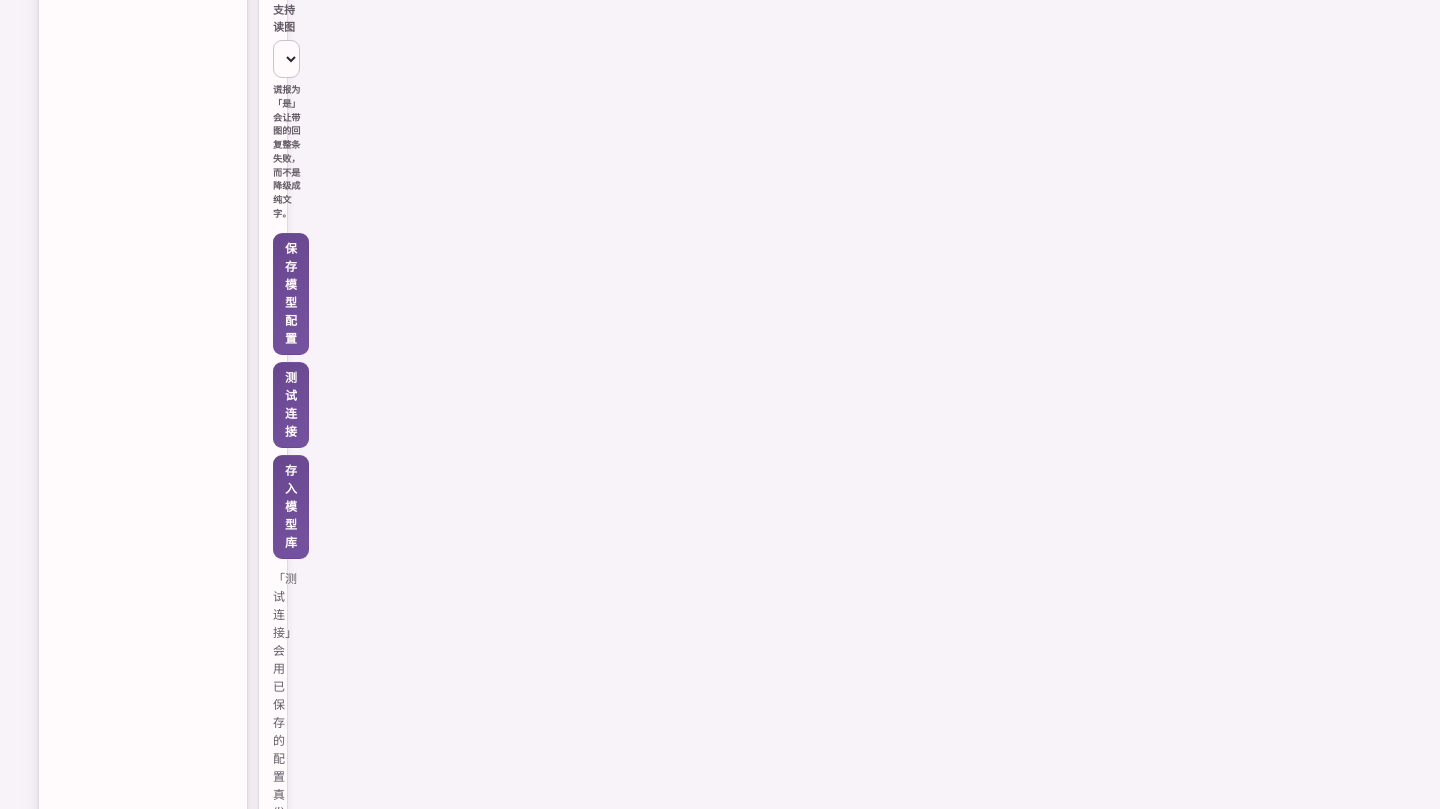
Test: AdminPanel 子页首屏 › 模型测试返回 ok:false 时不会显示连接正常
(page scrolled)
Click the button with test id "admin-model-test". click: (291, 405)
box: [273, 362, 309, 448]
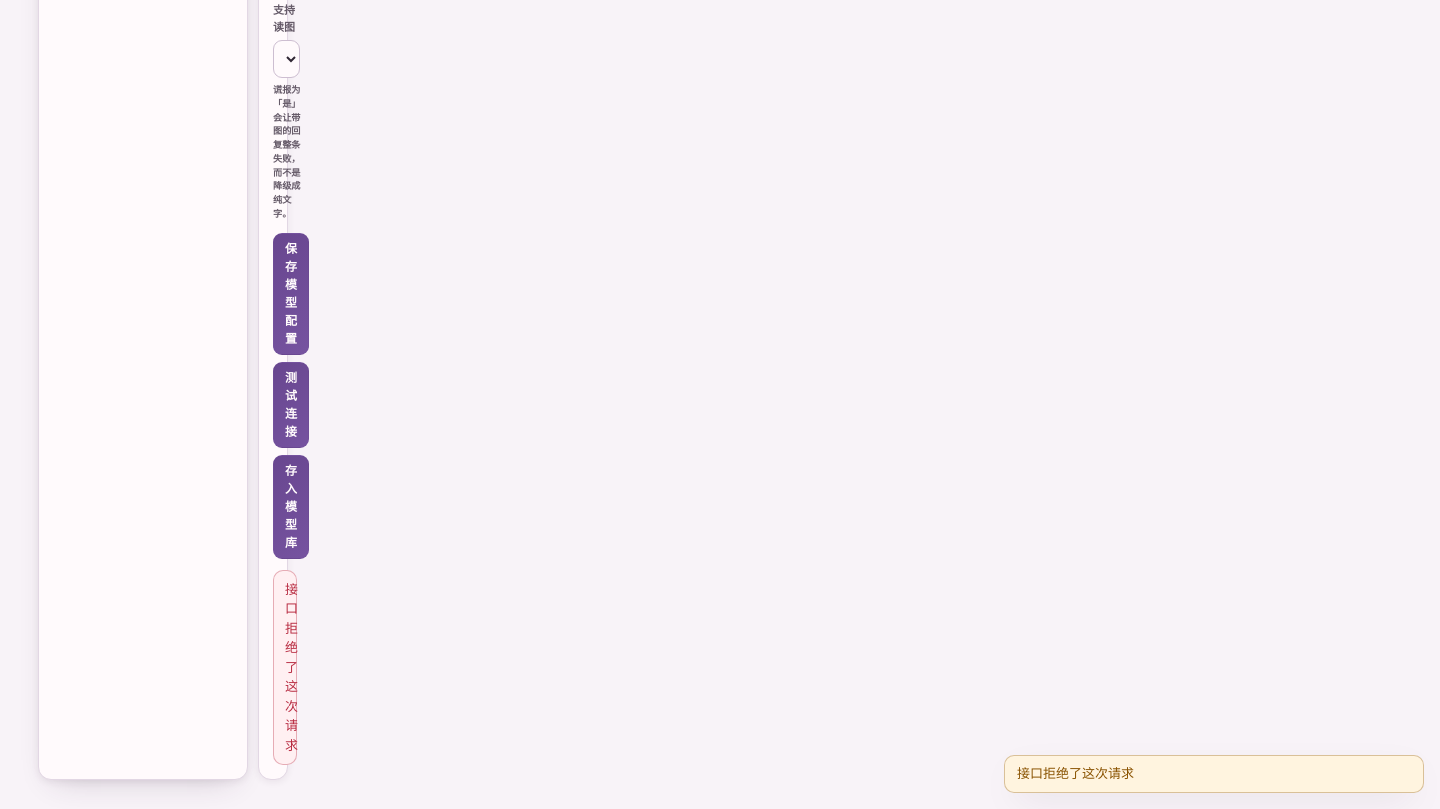
Check: the text "接口拒绝了这次请求" is shown, box [1004, 755, 1424, 793]
